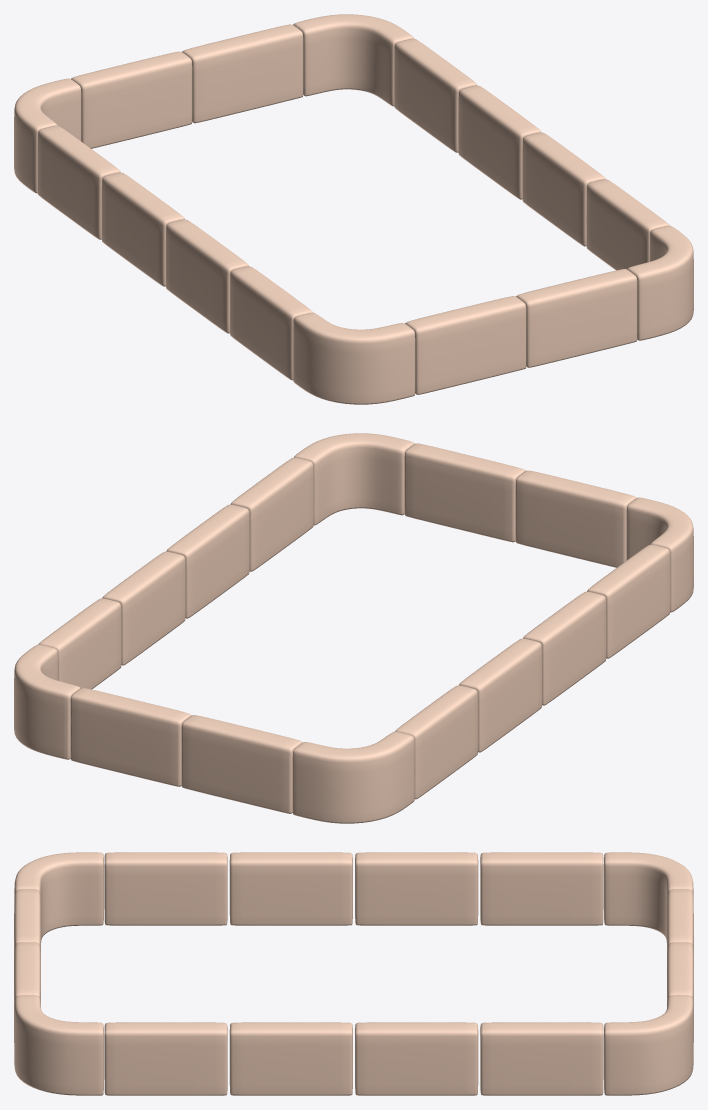
The model's file is M_Gridwall.fbx.
3 views of the same model, one above another, from view 1: azimuth 30°, elevation 25°; view 2: azimuth 150°, elevation 25°; view 3: azimuth 270°, elevation 25° (orthographic). The views are drawn at different scales.
Parts seen in each view (by area): view 1: walls; view 2: walls; view 3: walls.
Part boxes in pixels (x1,y1,x2,y2): walls: (14,14,693,404); walls: (14,433,693,823); walls: (14,852,693,1095).
Bounding box in the file's own units: 6.86 × 1.13 × 10.86.
